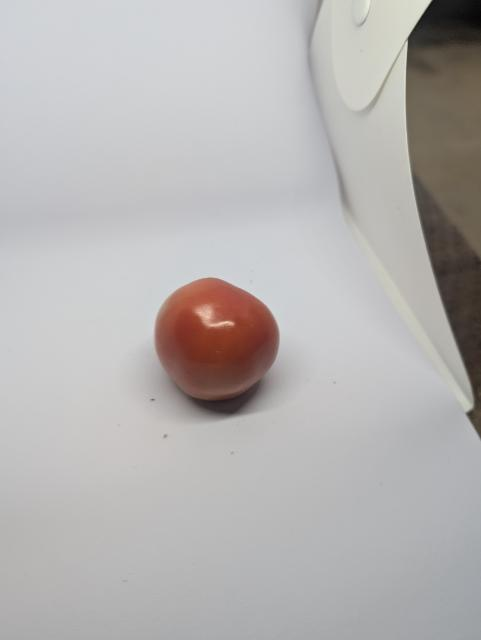red: (151, 276, 284, 403)
